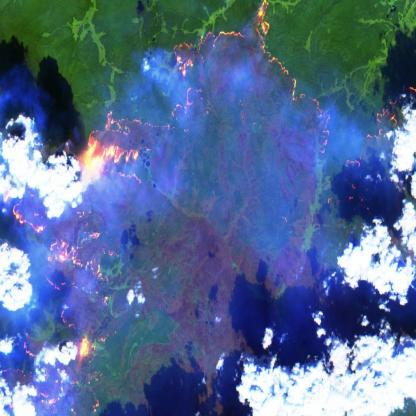fire: (1, 0, 333, 416), (338, 85, 416, 209)
